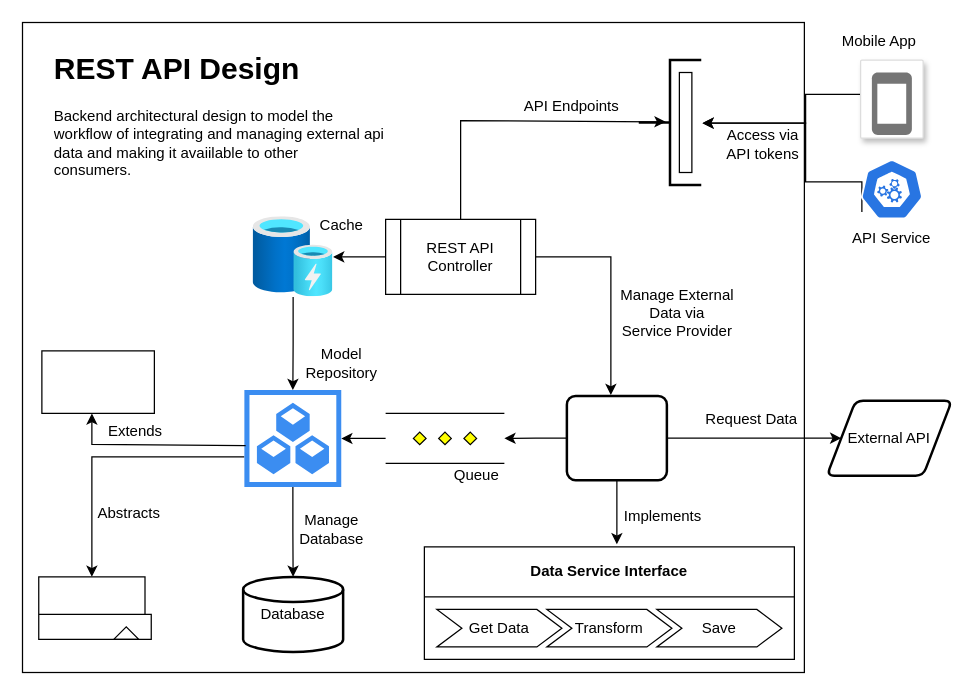
The diagram is 974 pixels wide and 694 high, and some of its shapes have lost their labels. Each missing label, with the centre of its shape:
"Data Models" goes at point 94,607.
"Data Service" goes at point 616,437.
"Generic Repository" goes at point 97,381.
"Phone" goes at point 892,100.
